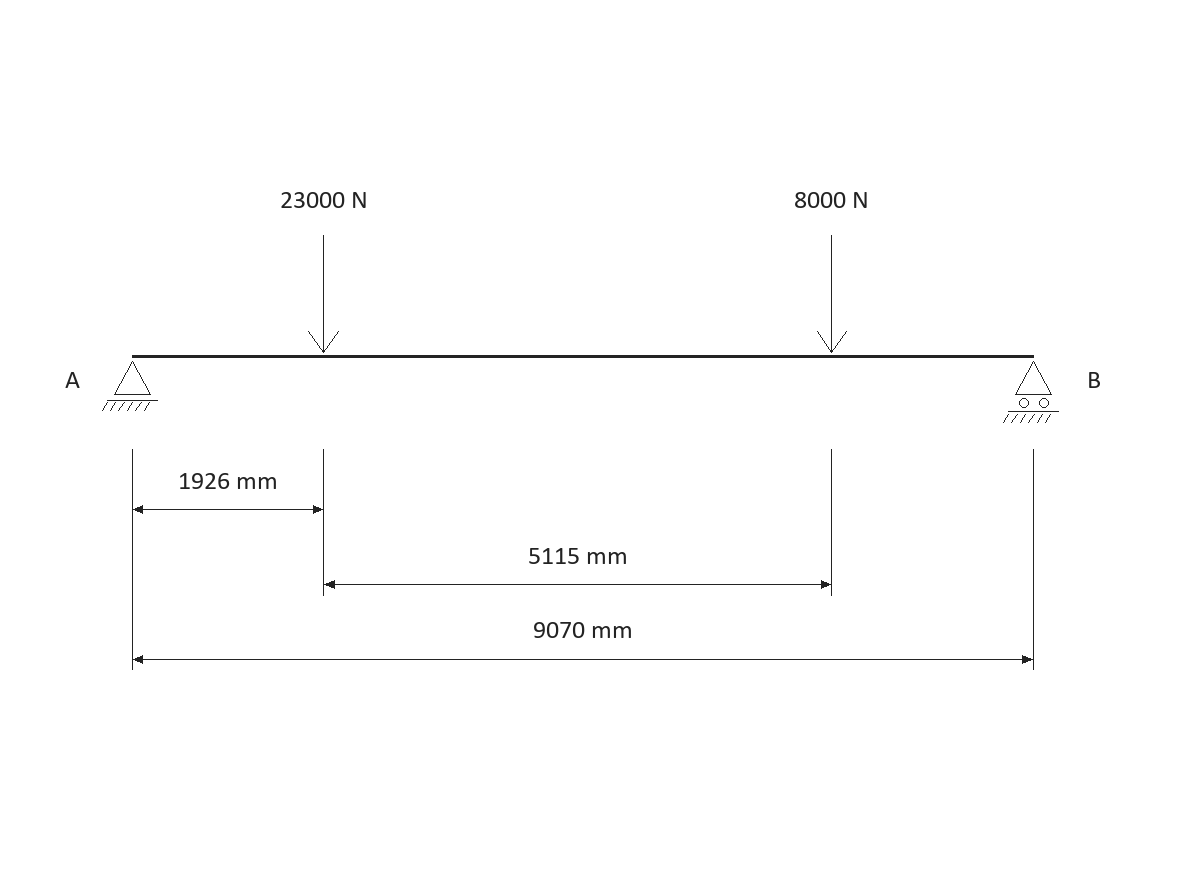pin_support: (102, 361, 158, 411)
point_load: (308, 235, 339, 353), (817, 235, 847, 353)
roller_support: (1003, 361, 1059, 423)
